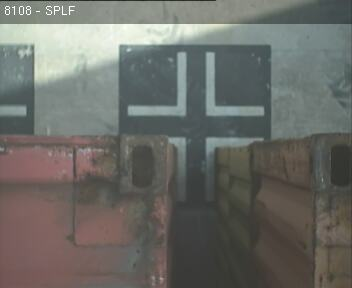groundmarker_1: (127, 137, 265, 201), (128, 52, 265, 116)
